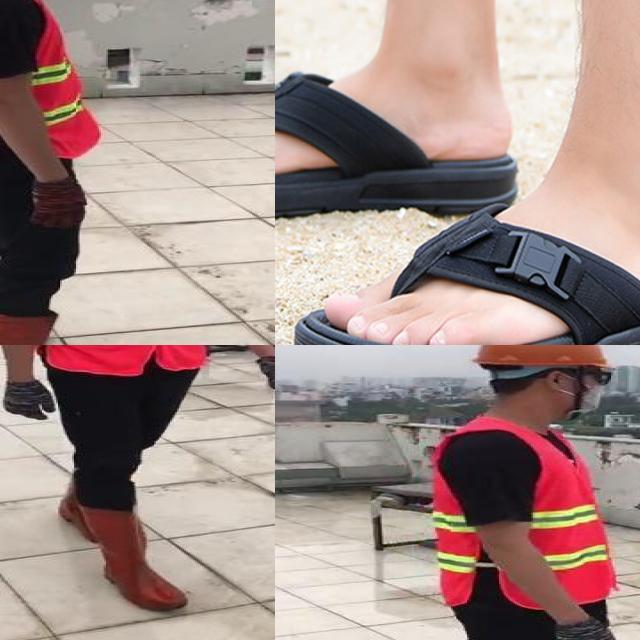Sandals: (275, 47, 640, 345)
boots: (81, 505, 190, 612), (0, 301, 101, 345), (58, 466, 97, 545)
hand_glove: (30, 179, 90, 229), (3, 379, 56, 422), (543, 619, 621, 640), (251, 356, 275, 407)
head_helmet: (468, 345, 616, 373)
person: (361, 345, 640, 640), (0, 345, 275, 616), (0, 0, 135, 345)
vest: (428, 416, 616, 610), (0, 0, 102, 168)
